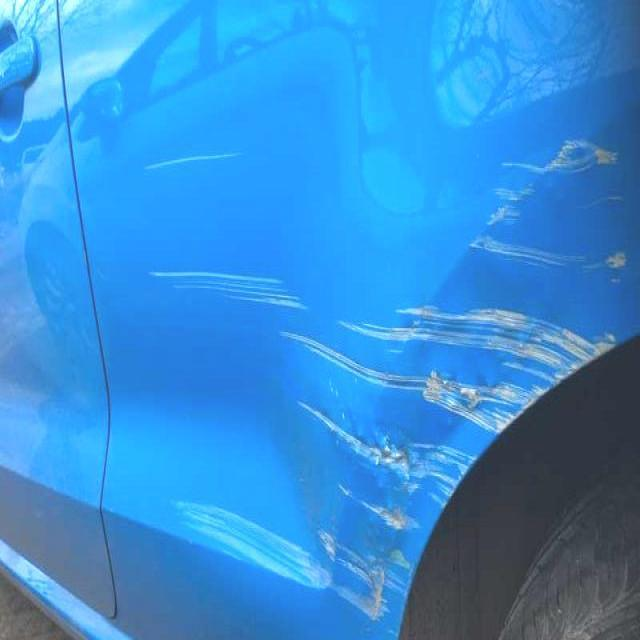minor: (468, 139, 629, 299), (142, 501, 330, 592), (142, 259, 308, 315), (138, 152, 245, 175)
moderate: (290, 305, 615, 640)
